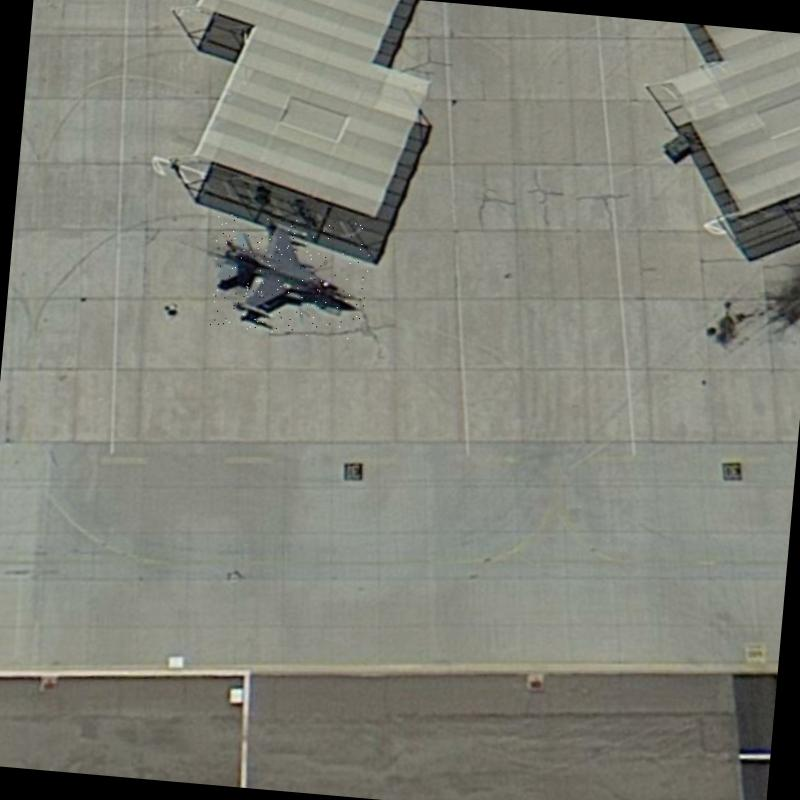A5: (208, 210, 374, 340)
